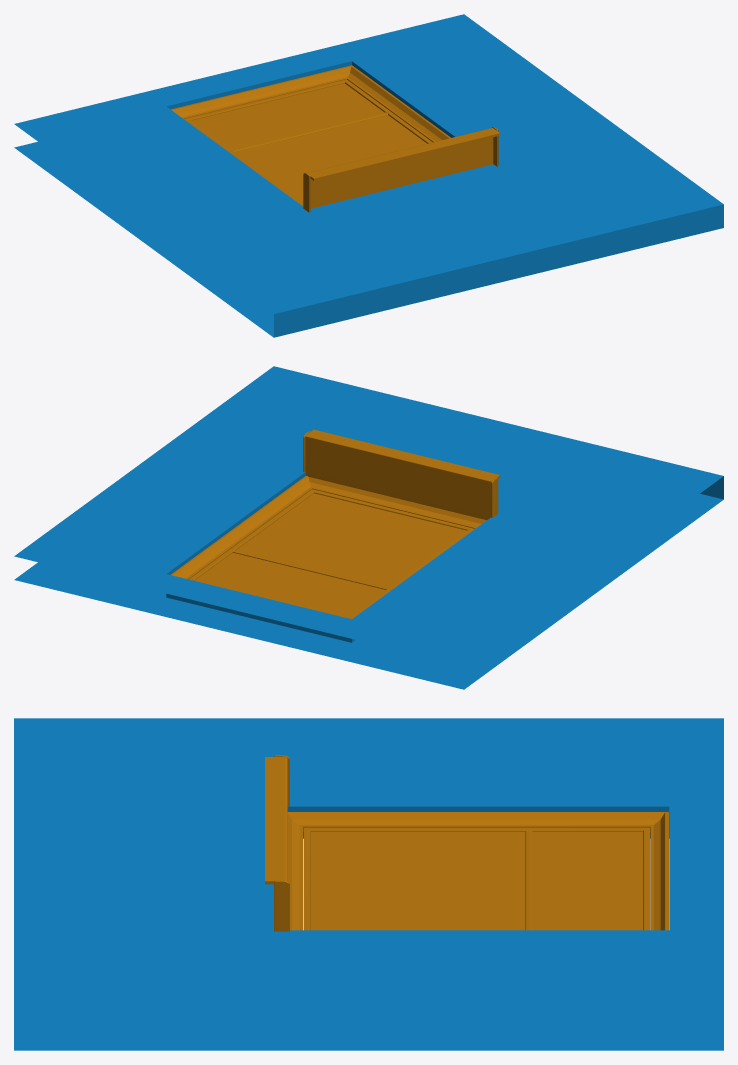
File: SM_Wall_03.fbx
3 renders of one model, top to bottom at view 1: azimuth 30°, elevation 25°; view 2: azimuth 150°, elevation 25°; view 3: azimuth 270°, elevation 25°, orthographic. The views are drawn at different scales.
Parts seen in each view (by area): view 1: SM_Wall_03; view 2: SM_Wall_03; view 3: SM_Wall_03.
Boxes of the visible parts, x1,y1,x2,y2 form: SM_Wall_03: (14, 14, 723, 337); SM_Wall_03: (14, 366, 723, 689); SM_Wall_03: (14, 718, 723, 1050).
Size of the model in its own units: 300 by 38.44 by 300.
